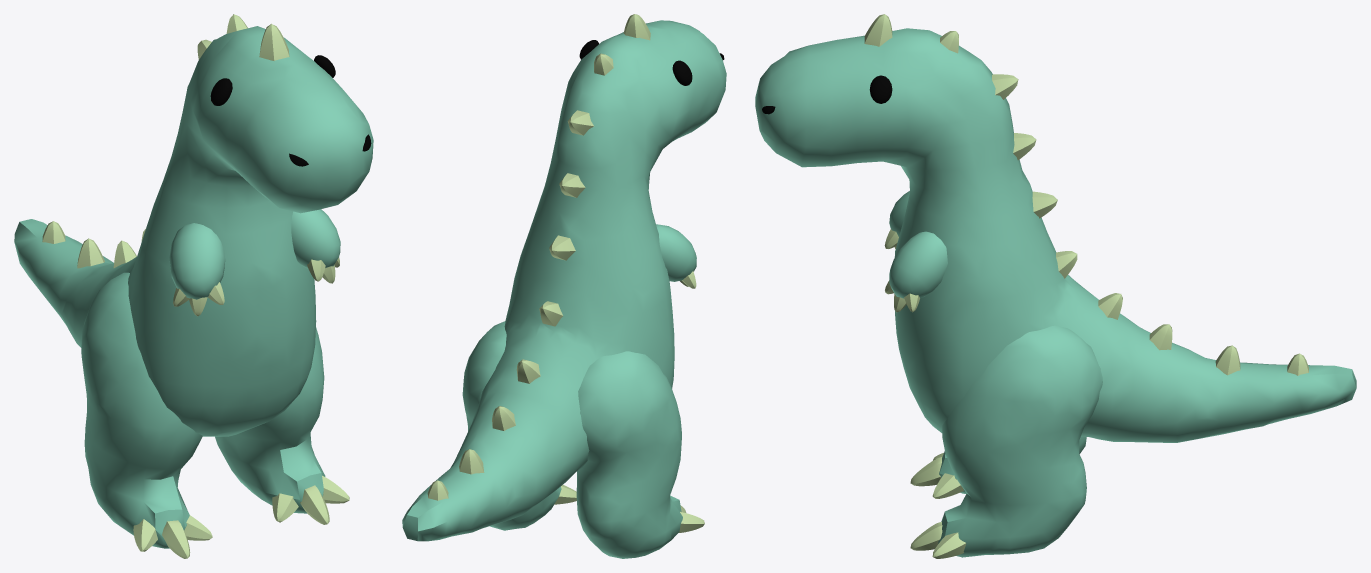
File: cute_dino.glb
The picture shows the model from 3 angles, left to right: view 1: azimuth 30°, elevation 25°; view 2: azimuth 150°, elevation 25°; view 3: azimuth 270°, elevation 25°; orthographic projection. The views are drawn at different scales.
Visible parts, largest first — view 1: Object_2; view 2: Object_2; view 3: Object_2.
Part boxes in pixels (left/top/right/bottom): Object_2: left=14, top=14, right=373, bottom=558; Object_2: left=402, top=14, right=726, bottom=558; Object_2: left=755, top=14, right=1356, bottom=558.
Size of the model in its own units: 0.555 by 1.3 by 1.39.
